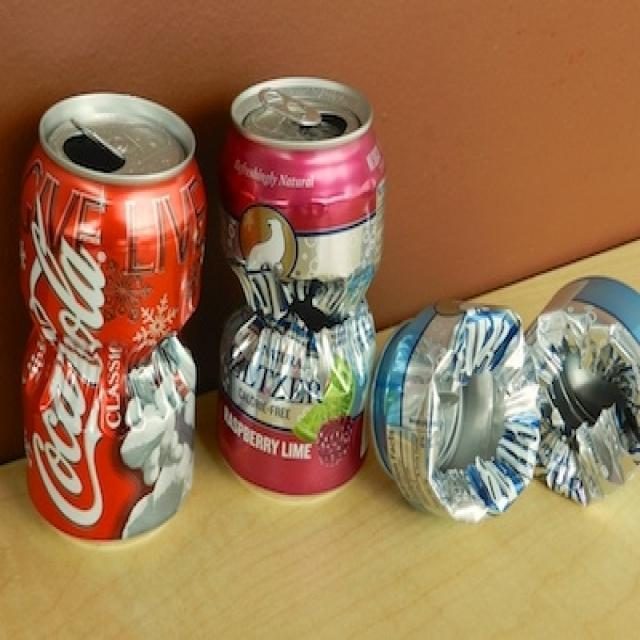can: (17, 91, 205, 545), (222, 75, 384, 498)
